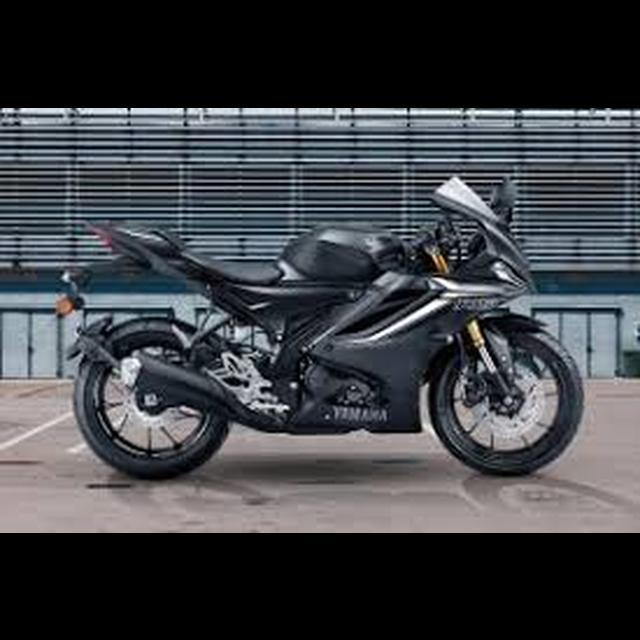motorcycle: (55, 165, 587, 480)
